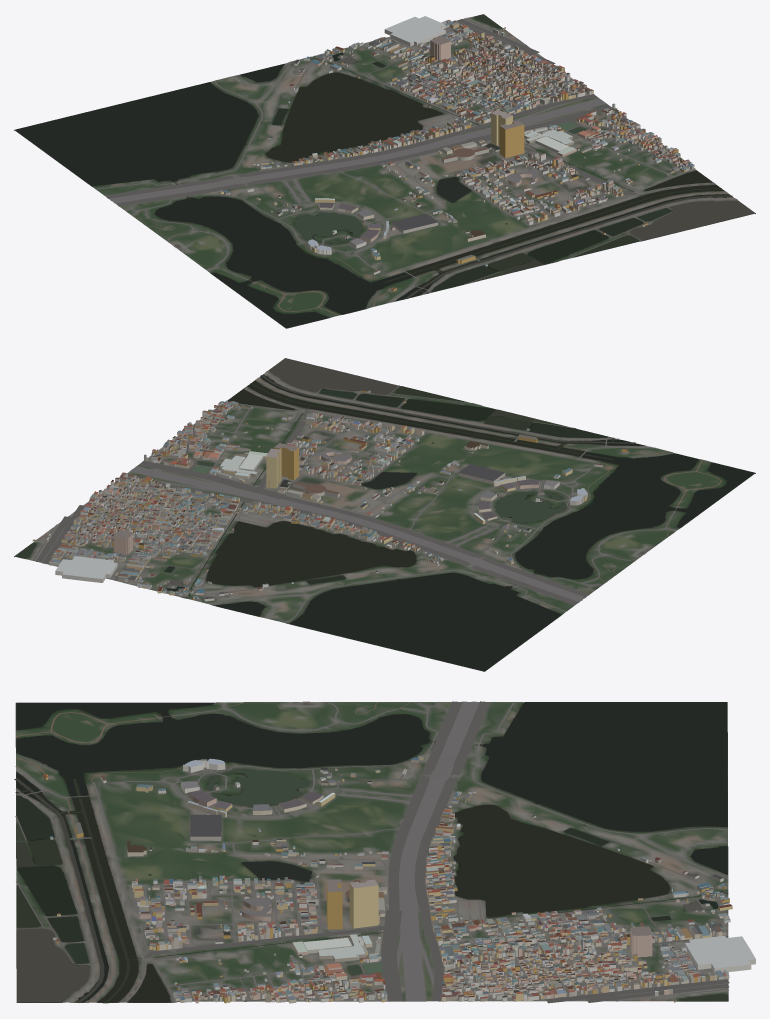
The picture shows the model from 3 angles, top to bottom: view 1: azimuth 30°, elevation 25°; view 2: azimuth 150°, elevation 25°; view 3: azimuth 270°, elevation 25°; orthographic projection. The views are drawn at different scales.
Parts seen in each view (by area): view 1: water, ground, buildings, roads; view 2: water, ground, buildings, roads; view 3: water, ground, buildings, roads.
Part boxes in pixels (box(x1,y1,x2,y2)): water: box(15, 14, 754, 328); ground: box(14, 15, 755, 328); buildings: box(219, 16, 694, 291); roads: box(95, 17, 737, 315); water: box(15, 358, 754, 671); ground: box(14, 370, 755, 671); buildings: box(32, 390, 627, 601); roads: box(30, 371, 721, 622); water: box(14, 702, 728, 1002); ground: box(15, 702, 728, 1003); buildings: box(43, 756, 755, 1003); roads: box(15, 701, 729, 1003).
Size of the model in its own units: 1412 by 93.89 by 1461.
